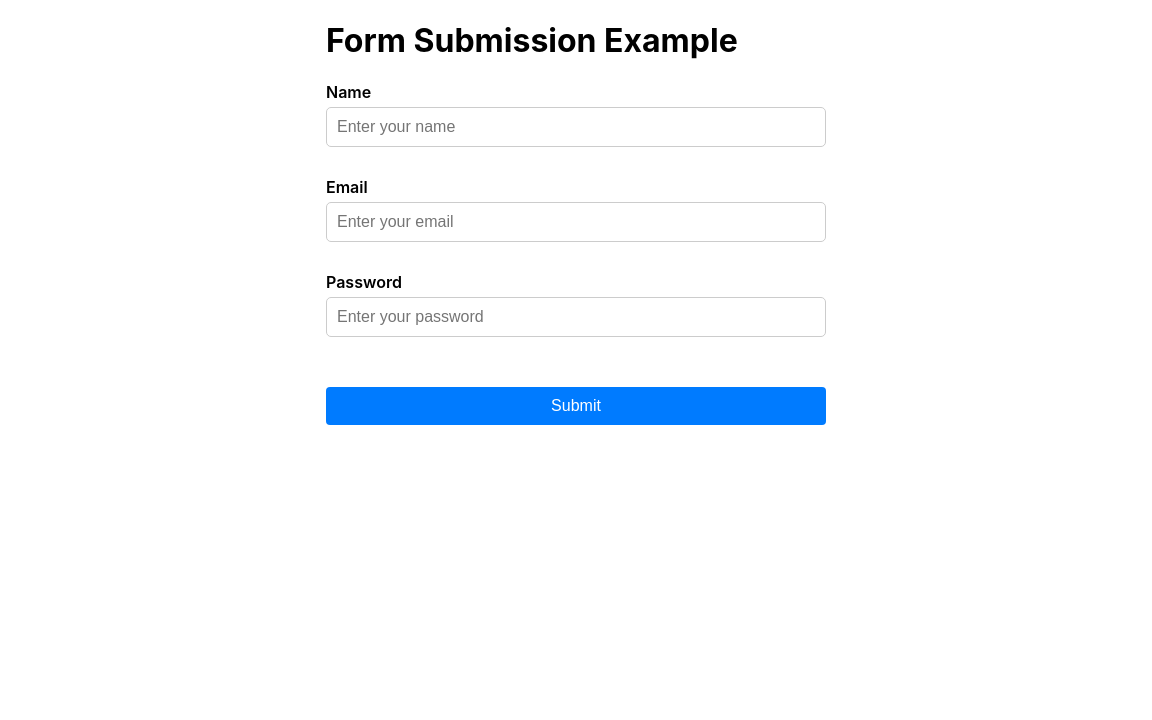
Test: App Component › closes the modal when close button is clicked
Note: Fill in the form fields
Type "John Doe" into the field with placeholder "Enter your name" at [576, 127], box [326,107,826,147]
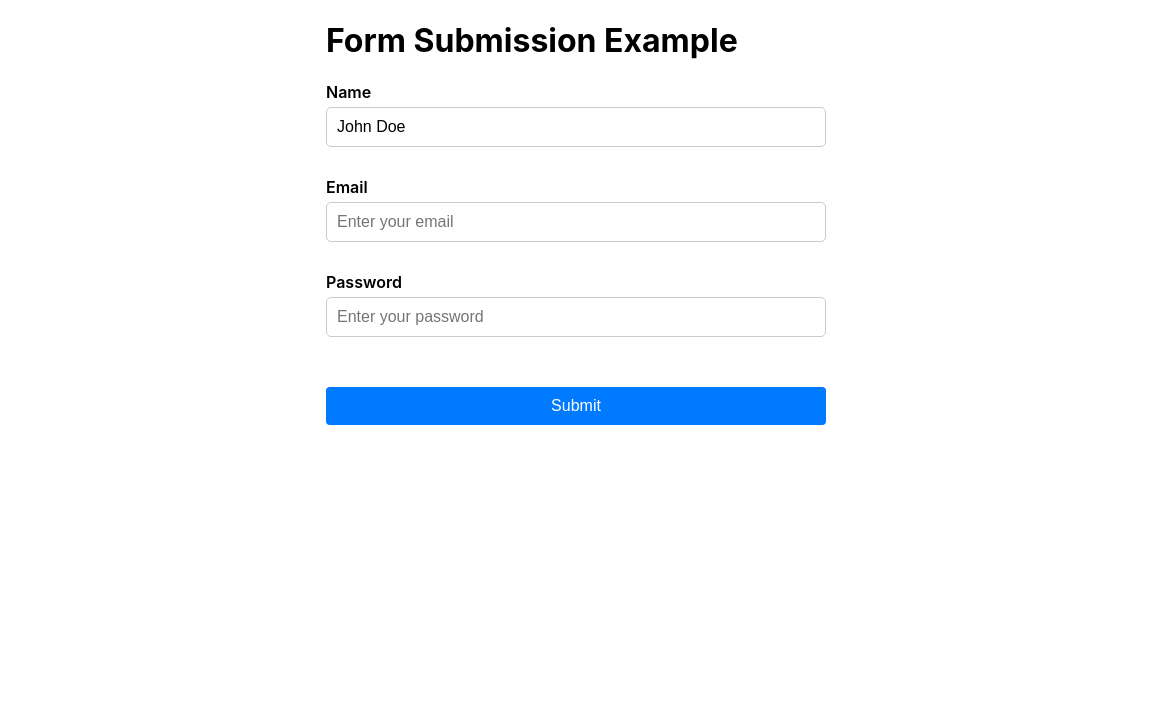
Type "john.doe@example.com" into the field with placeholder "Enter your email" at [576, 222], box [326,202,826,242]
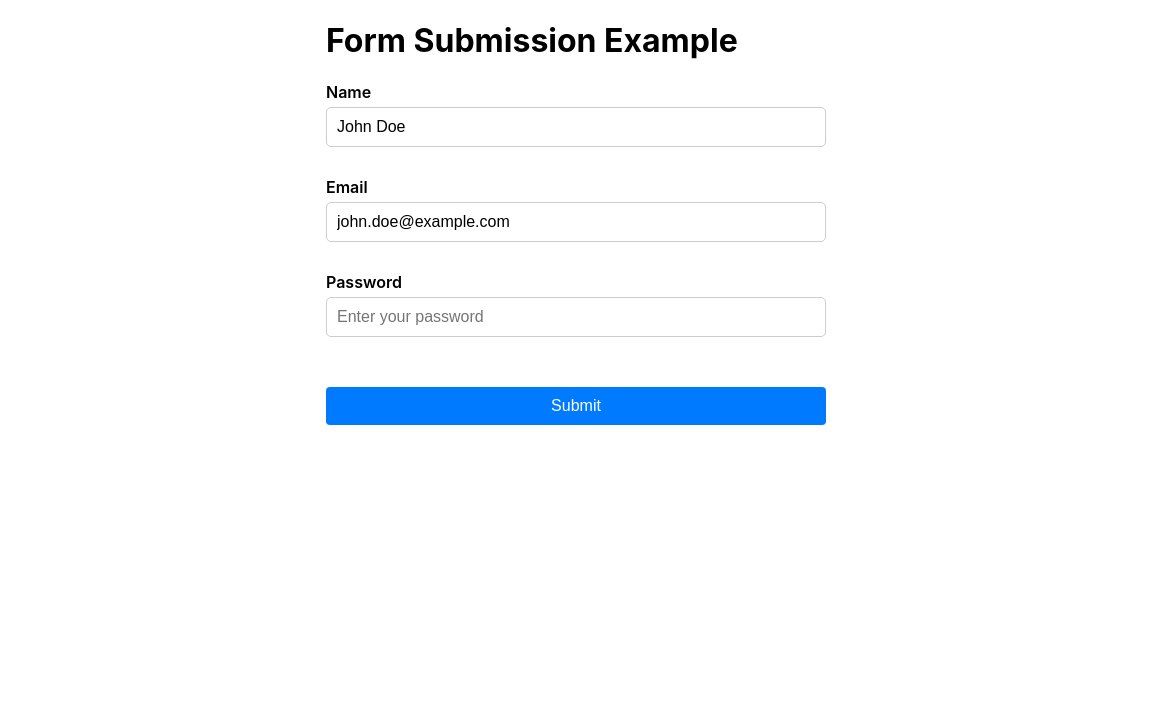
Type "password123" into the password field with placeholder "Enter your password" at [576, 317], box [326,297,826,337]
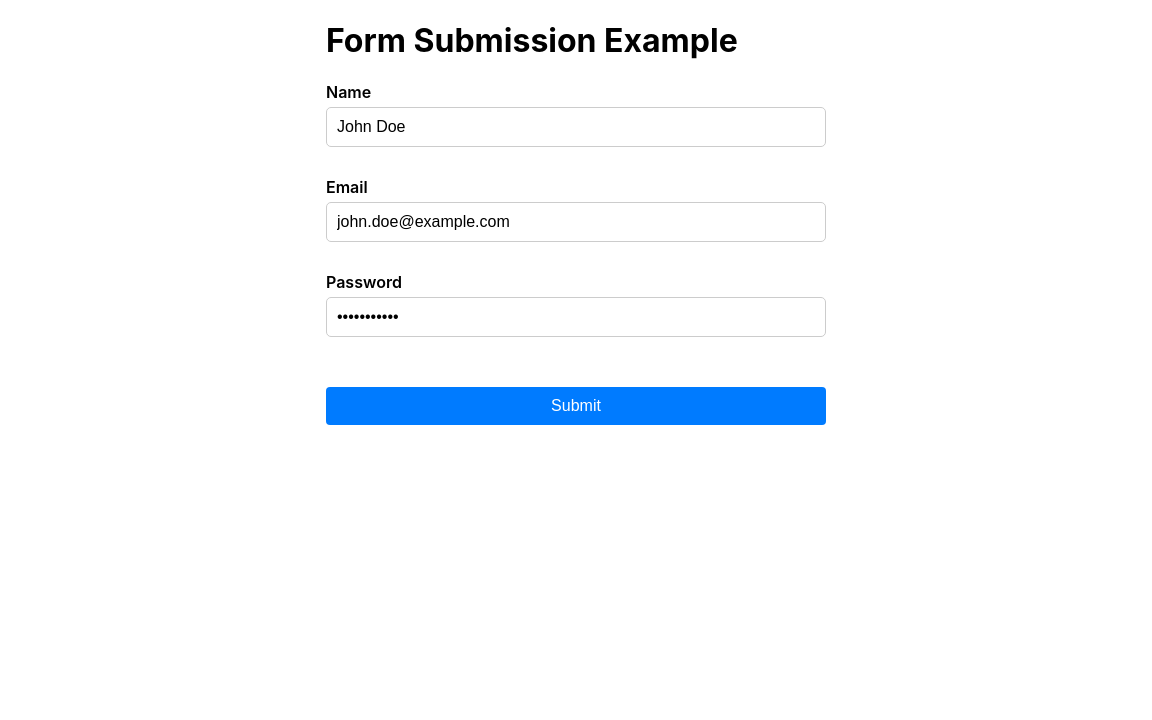
Note: Submit the form
Click the button "Submit" at [576, 406], box [326,387,826,425]
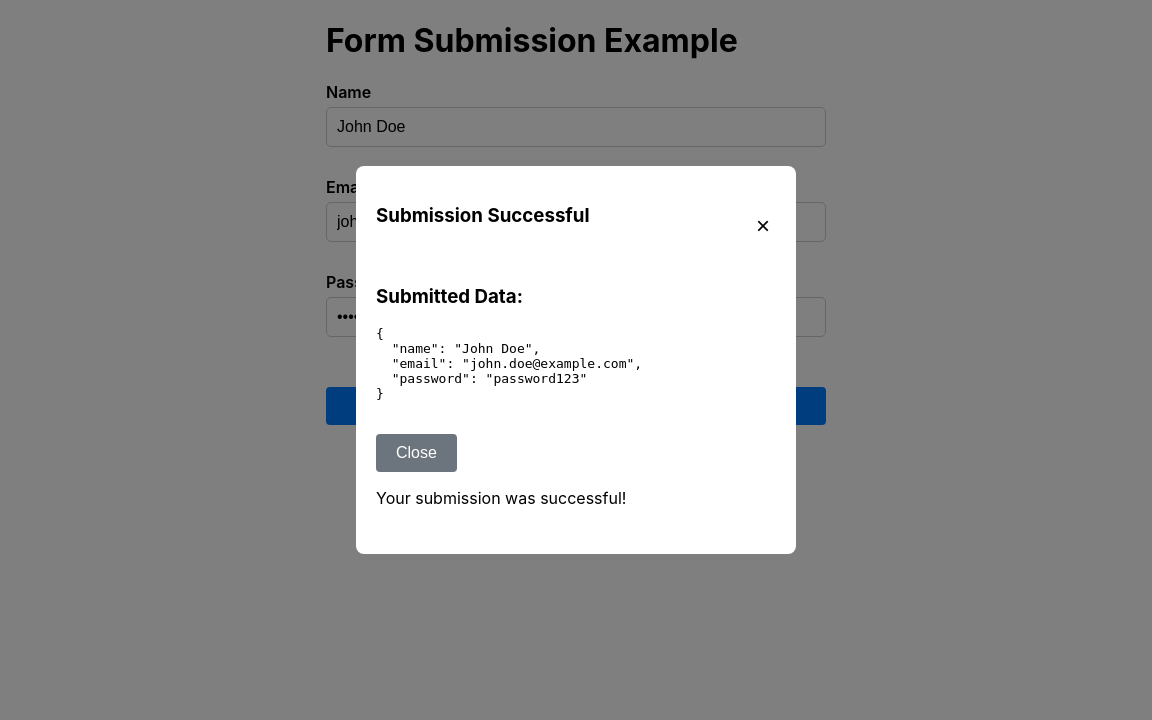
Expected: the heading "Submission Successful" is shown, [376,204,590,227]
Note: Close the modal
Click the button "Close" at [416, 453], box [376,434,457,472]
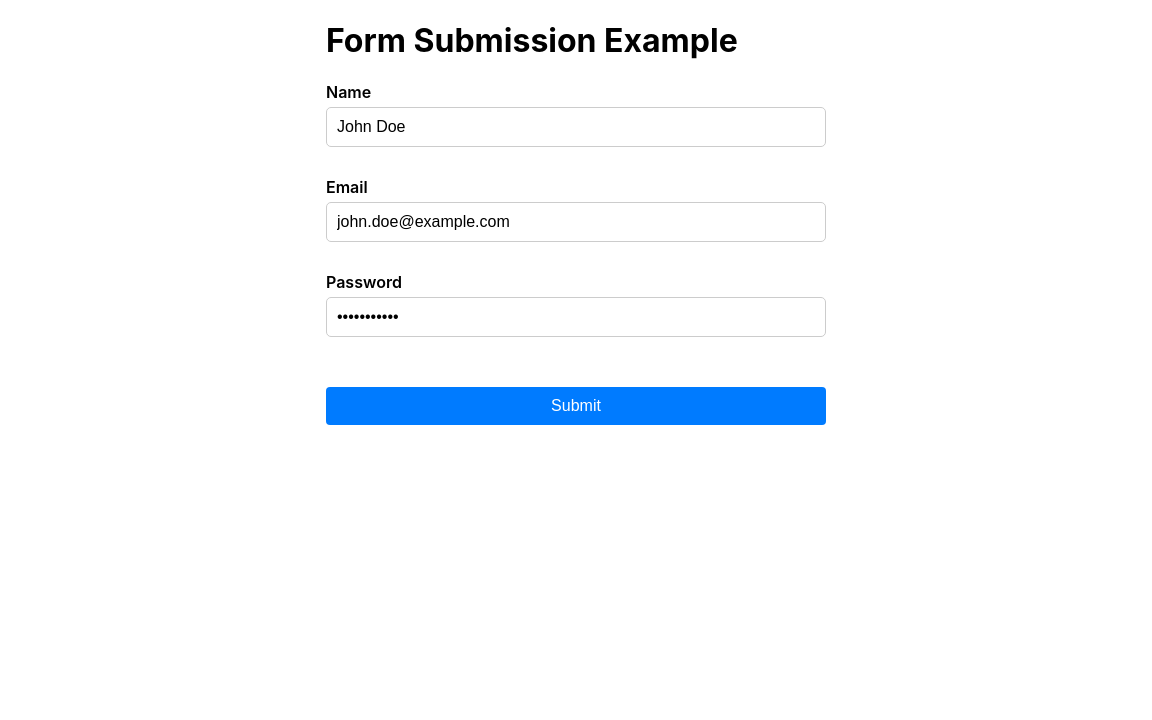
Expected: the heading "Submission Successful" is gone
